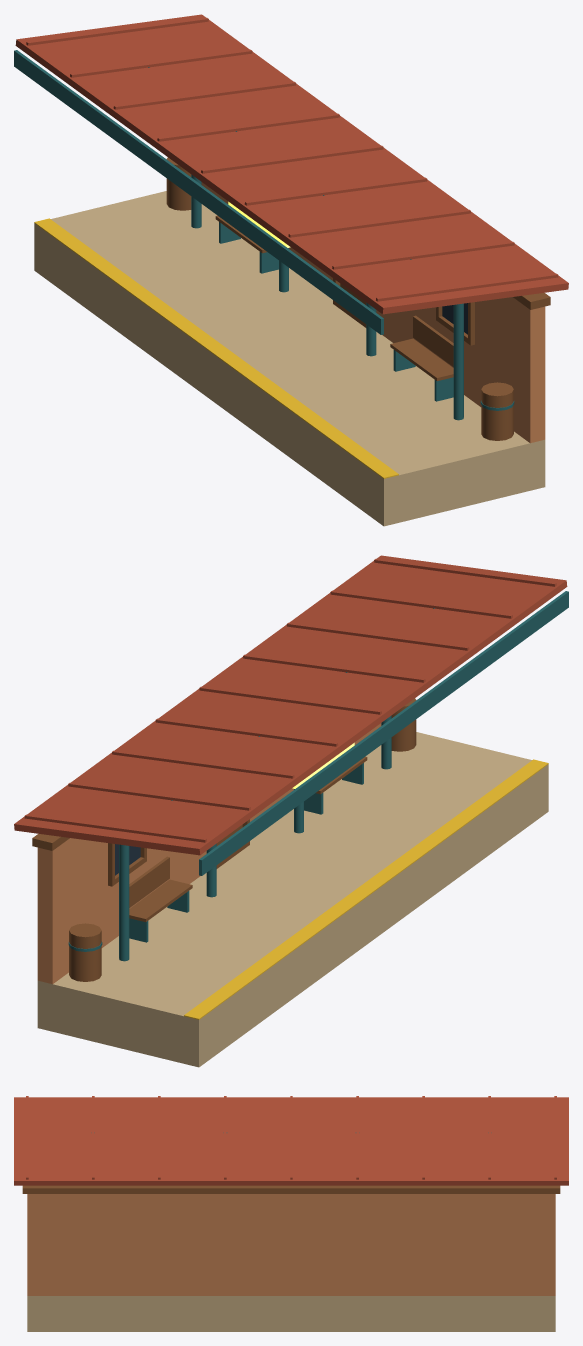
File: station.glb
3 renders of one model, top to bottom at view 1: azimuth 30°, elevation 25°; view 2: azimuth 150°, elevation 25°; view 3: azimuth 270°, elevation 25°, orthographic. The views are drawn at different scales.
Visible parts, largest first — view 1: Station_Mesh; view 2: Station_Mesh; view 3: Station_Mesh.
Boxes of the visible parts, x1,y1,x2,y2 form: Station_Mesh: (14,14,568,526); Station_Mesh: (14,555,568,1067); Station_Mesh: (14,1096,568,1331).
Bounding box in the file's own units: 3.73 × 4.35 × 12.6.
